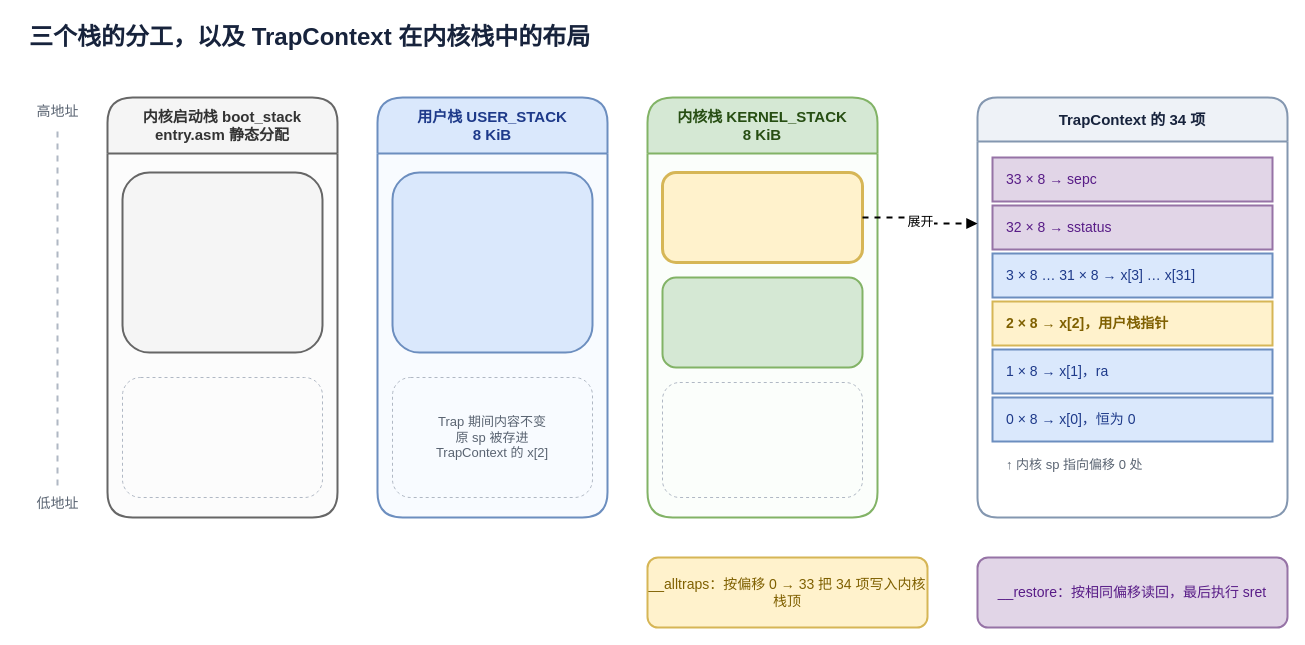
The diagram is 1305 pixels wide and 645 high, and some of its shapes have lost their labels. The centre of each missing label's shape, as x and y in pixels:
"trap_handler 与 syscall 的栈帧" belongs at point (762, 322).
"TrapContext 34 × 8 = 272 字节" belongs at point (762, 217).
"全局只有一份 不保存任何用户状态" belongs at point (222, 437).
"内核自身运行的栈 初始化、加载程序、 println! 等函数栈帧" belongs at point (222, 262).
"未使用" belongs at point (762, 440).
"用户程序的 局部变量与函数栈帧" belongs at point (492, 262).
